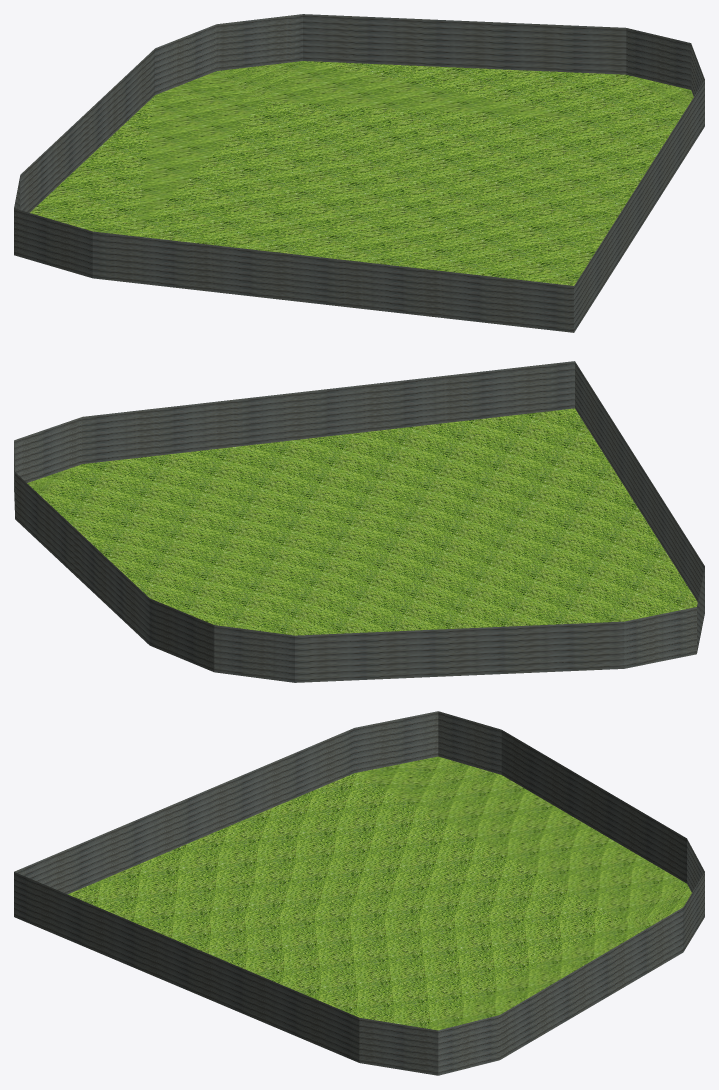
File: stadium.gltf
3 views of the same model, one above another, from view 1: azimuth 30°, elevation 25°; view 2: azimuth 150°, elevation 25°; view 3: azimuth 270°, elevation 25° (orthographic). The views are drawn at different scales.
Parts seen in each view (by area): view 1: 立方体; view 2: 立方体; view 3: 立方体.
Boxes of the visible parts, x1=… form: 立方体: x1=14, y1=14, x2=704, y2=332; 立方体: x1=14, y1=361, x2=704, y2=682; 立方体: x1=14, y1=711, x2=704, y2=1075.
Size of the model in its own units: 755 by 50 by 691.
2 materials, 2 textured.
